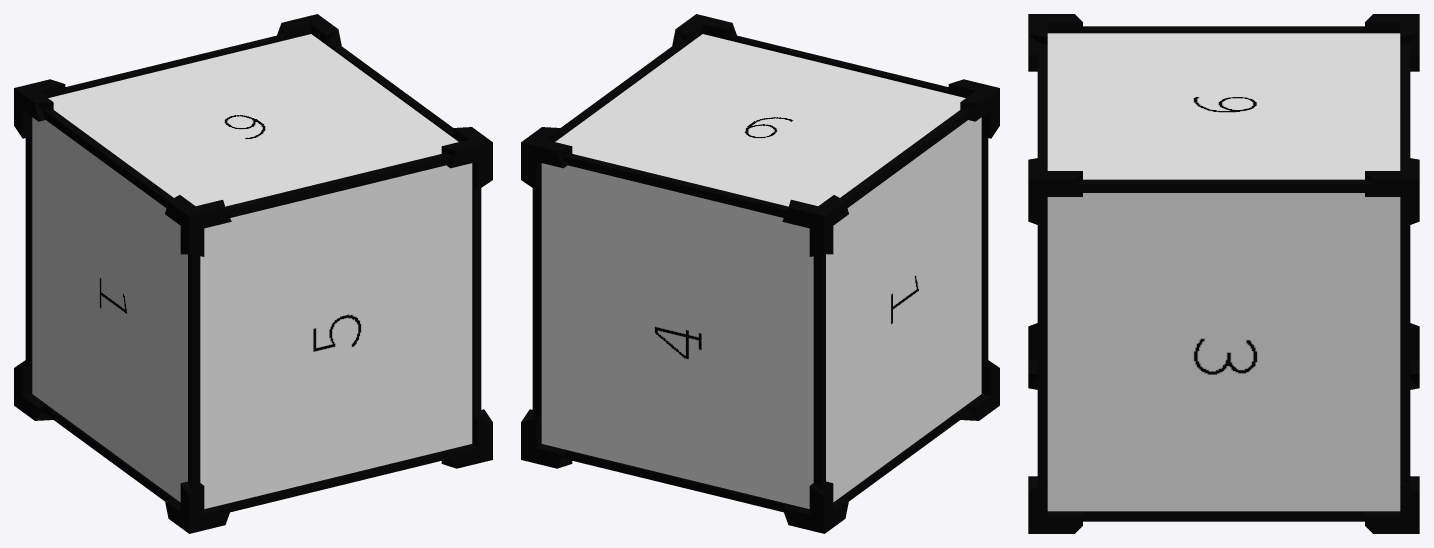
The model's file is NavSqr.obj.
3 renders of one model, left to right at view 1: azimuth 30°, elevation 25°; view 2: azimuth 150°, elevation 25°; view 3: azimuth 270°, elevation 25°, orthographic. The views are drawn at different scales.
Visible parts, largest first — view 1: Cube; view 2: Cube; view 3: Cube.
Boxes of the visible parts, bbox=[...] form: Cube: bbox=[14, 14, 492, 533]; Cube: bbox=[521, 14, 999, 533]; Cube: bbox=[1028, 14, 1419, 533].
Bounding box in the file's own units: 13.49 × 13.49 × 13.49.
Materials: 2 (1 with a texture image).
